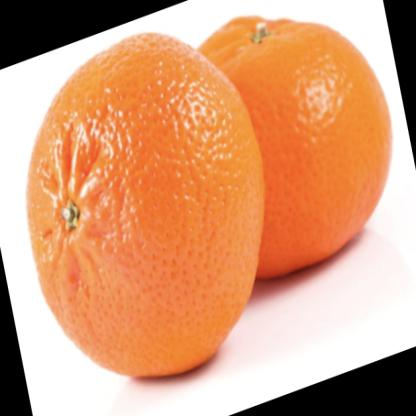fresh: (30, 32, 265, 373), (201, 22, 394, 278)
